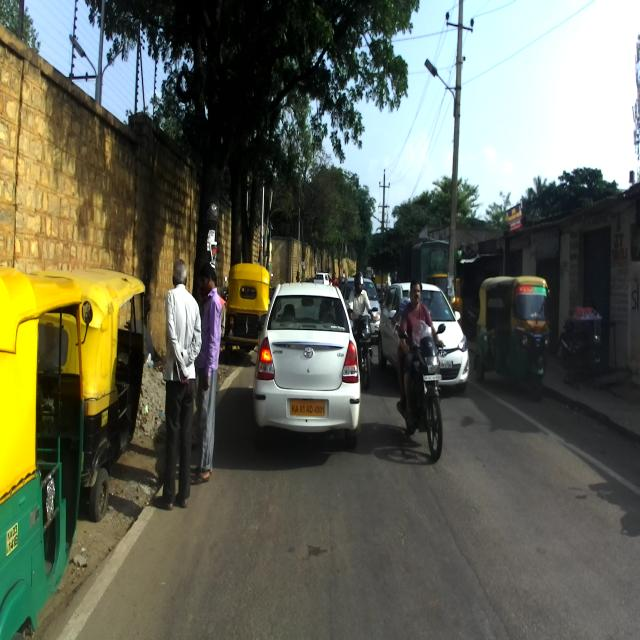auto ahead at: (0, 269, 84, 635)
car ahead at: (258, 281, 362, 463)
motorcycle ahead at: (395, 315, 446, 460)
person ahead at: (167, 248, 201, 504)
